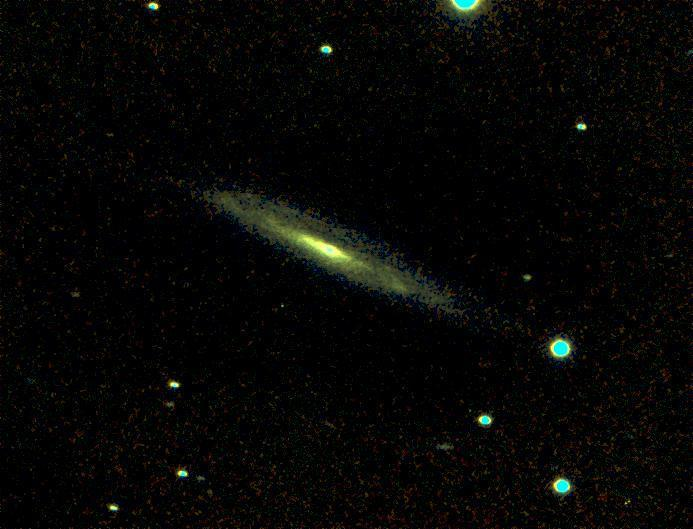star: (93, 119, 123, 149)
